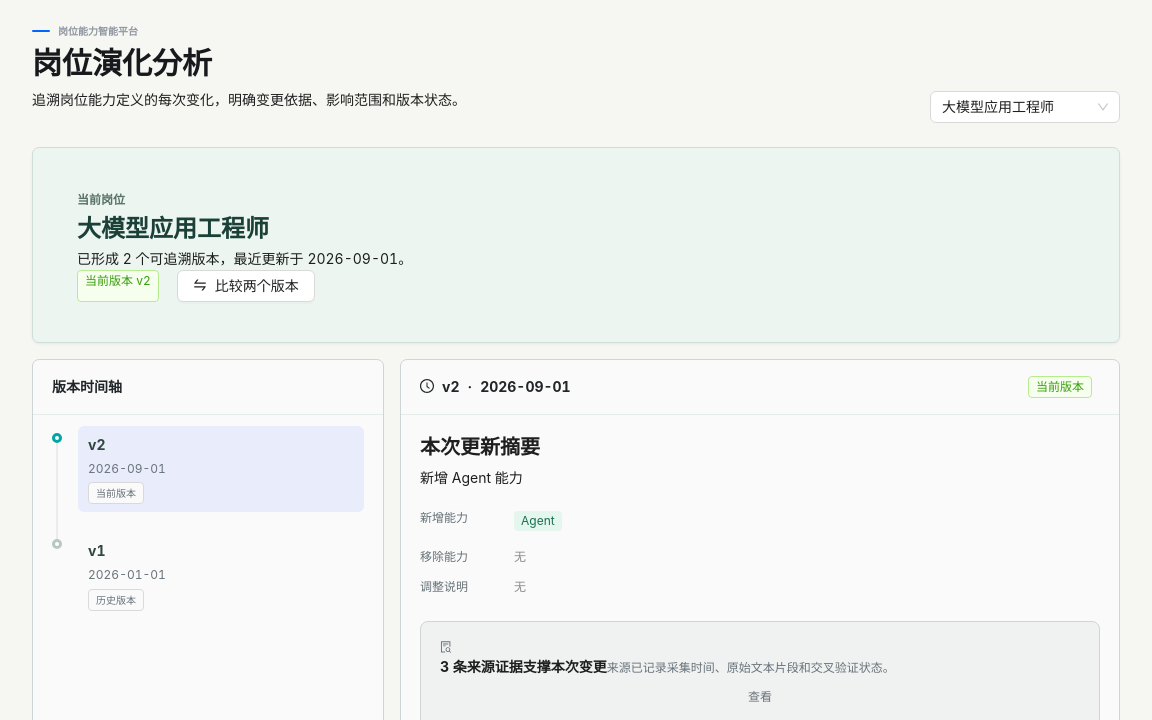
Test: JD quality audit and role evolution › switches role versions and opens evidence drawer
Expected: the heading "岗位演化分析" is shown, x1=32 y1=45 x2=212 y2=81
Expected: the text "新增 Agent 能力" is shown, x1=420 y1=469 x2=523 y2=486
Click the text "v1" at coordinates (97, 551), box x1=88 y1=542 x2=106 y2=559
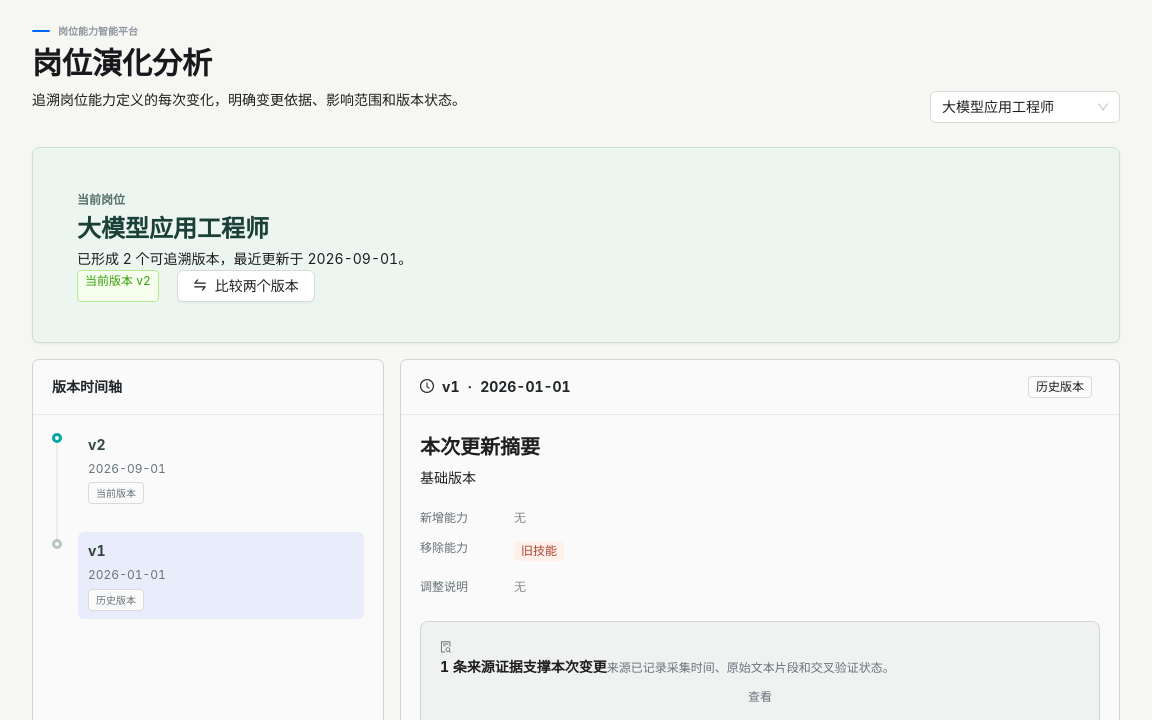
Expected: the text "基础版本" is shown, x1=420 y1=469 x2=476 y2=486
Click the button "查看" at coordinates (760, 697), box x1=440 y1=681 x2=1080 y2=713
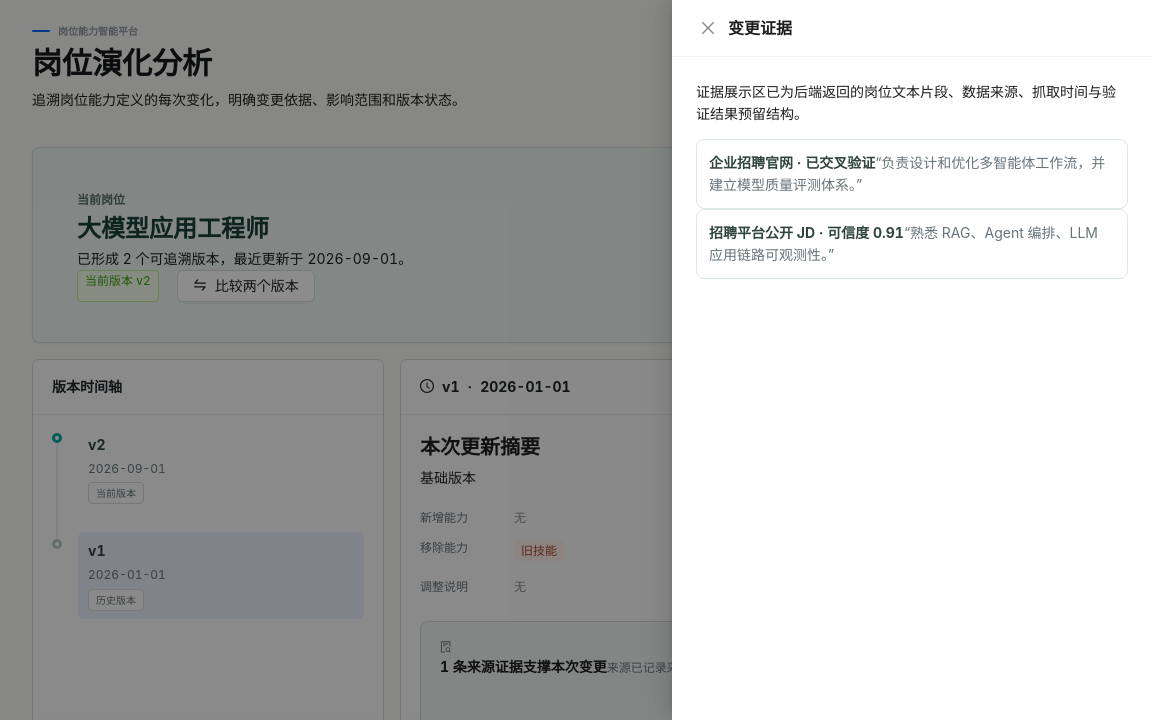
Expected: the text "变更证据" is shown, x1=728 y1=18 x2=792 y2=38
